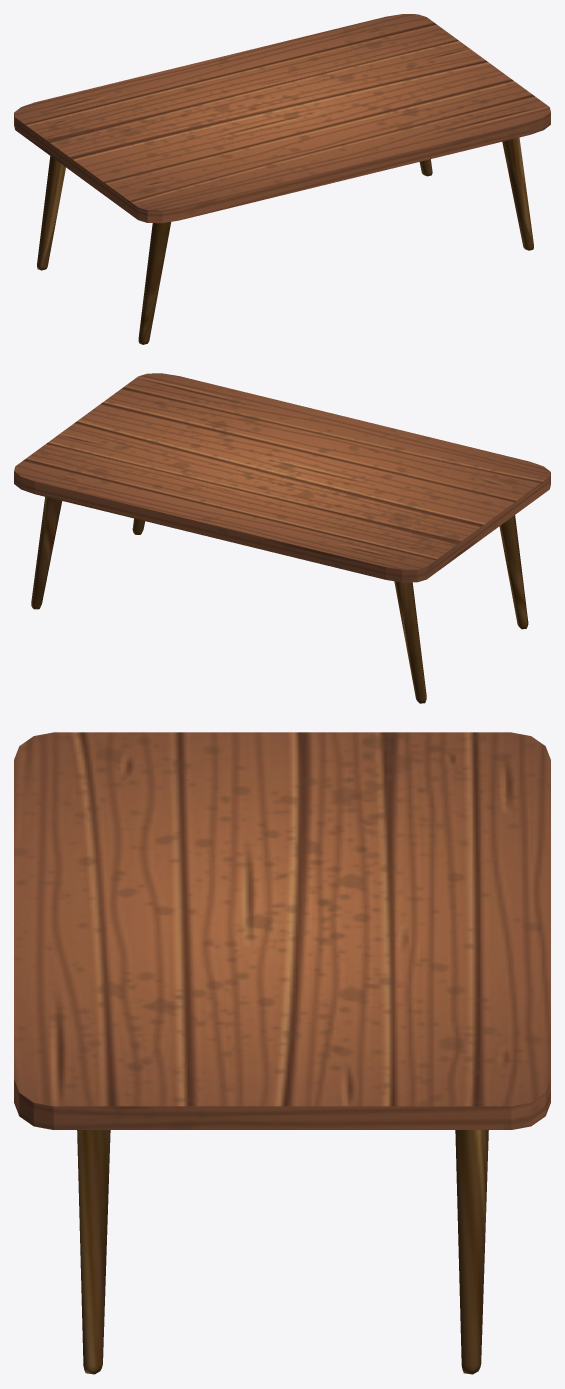
File: Table1.fbx
3 renders of one model, top to bottom at view 1: azimuth 30°, elevation 25°; view 2: azimuth 150°, elevation 25°; view 3: azimuth 270°, elevation 25°, orthographic. The views are drawn at different scales.
Visible parts, largest first — view 1: Table1; view 2: Table1; view 3: Table1.
Boxes of the visible parts, bbox=[...] form: Table1: bbox=[14, 14, 550, 344]; Table1: bbox=[14, 373, 550, 703]; Table1: bbox=[14, 732, 550, 1374].
Size of the model in its own units: 2488 by 1510 by 850.
